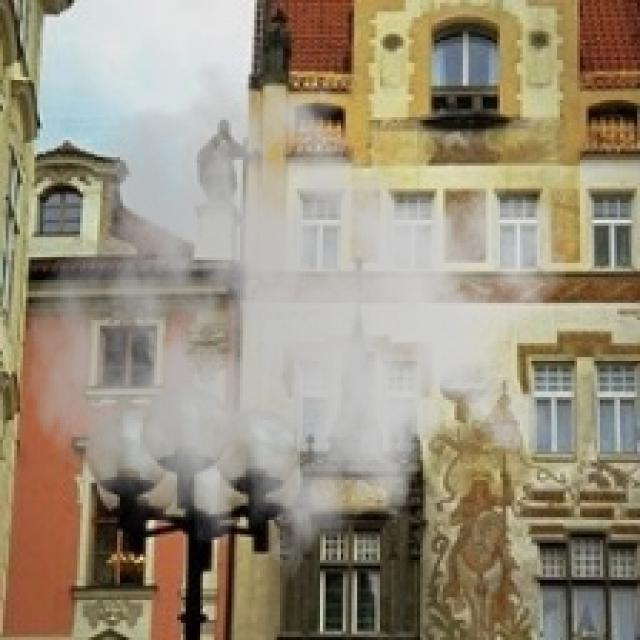smoke: (26, 49, 571, 606)
